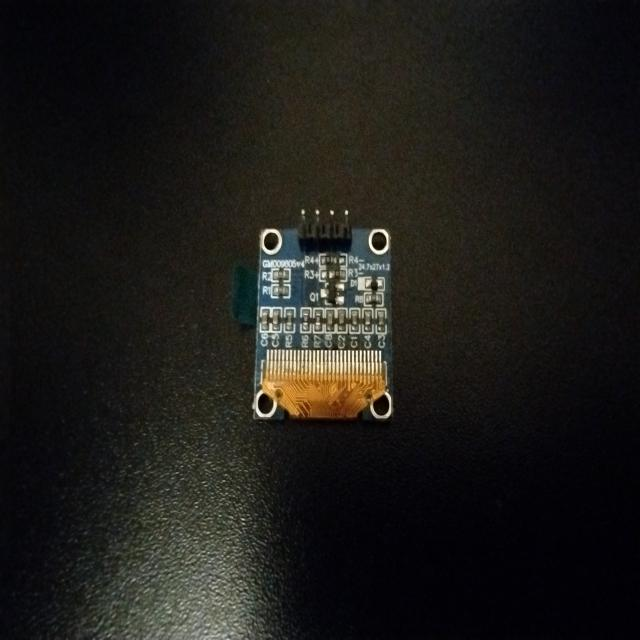oled: (234, 202, 403, 439)
